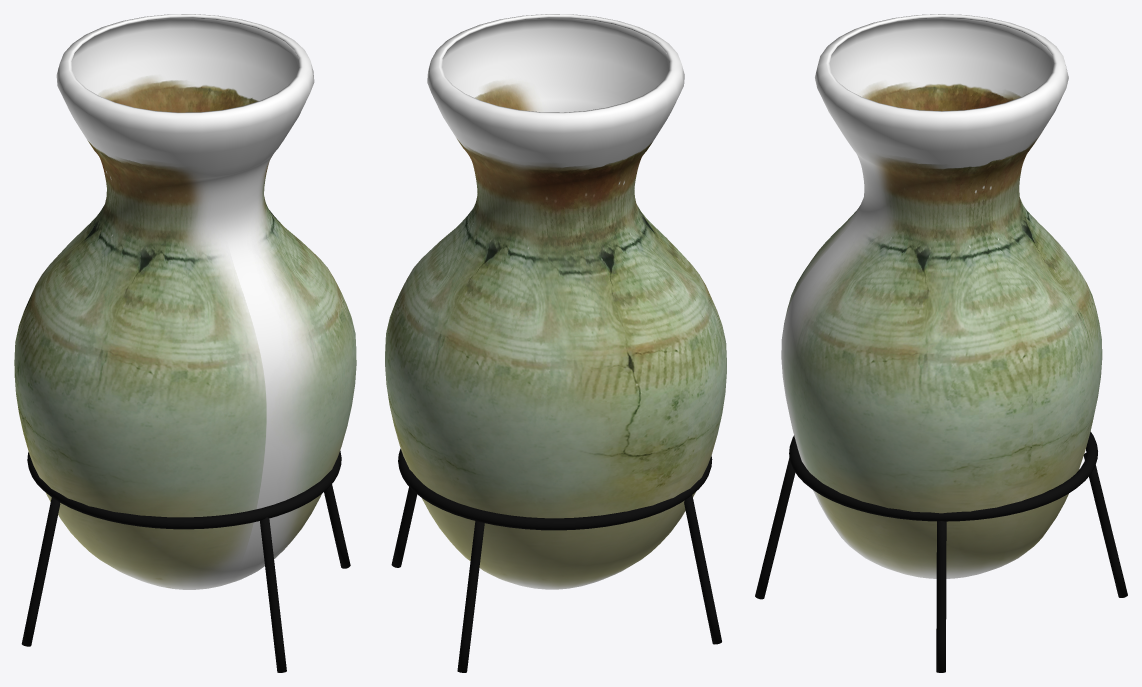
File: jar.obj
3 renders of one model, left to right at view 1: azimuth 30°, elevation 25°; view 2: azimuth 150°, elevation 25°; view 3: azimuth 270°, elevation 25°, orthographic.
Visible parts, largest first — view 1: Line02, Torus01, Cylinder03, Cylinder02, Cylinder01; view 2: Line02, Torus01, Cylinder04, Cylinder02, Cylinder01; view 3: Line02, Torus01, Cylinder01, Cylinder03, Cylinder04.
Boxes of the visible parts, x1,y1,x2,y2 form: Line02: [14, 14, 356, 589]; Torus01: [27, 451, 341, 529]; Cylinder03: [260, 517, 286, 672]; Cylinder02: [21, 497, 60, 646]; Cylinder01: [324, 484, 350, 568]; Line02: [385, 14, 726, 589]; Torus01: [398, 448, 712, 530]; Cylinder04: [457, 521, 484, 672]; Cylinder02: [684, 495, 721, 644]; Cylinder01: [391, 487, 417, 567]; Line02: [781, 14, 1102, 578]; Torus01: [789, 431, 1097, 521]; Cylinder01: [936, 521, 946, 672]; Cylinder03: [755, 457, 795, 599]; Cylinder04: [1083, 453, 1127, 597].
Size of the model in its own units: 5.88 by 9.27 by 5.88.
